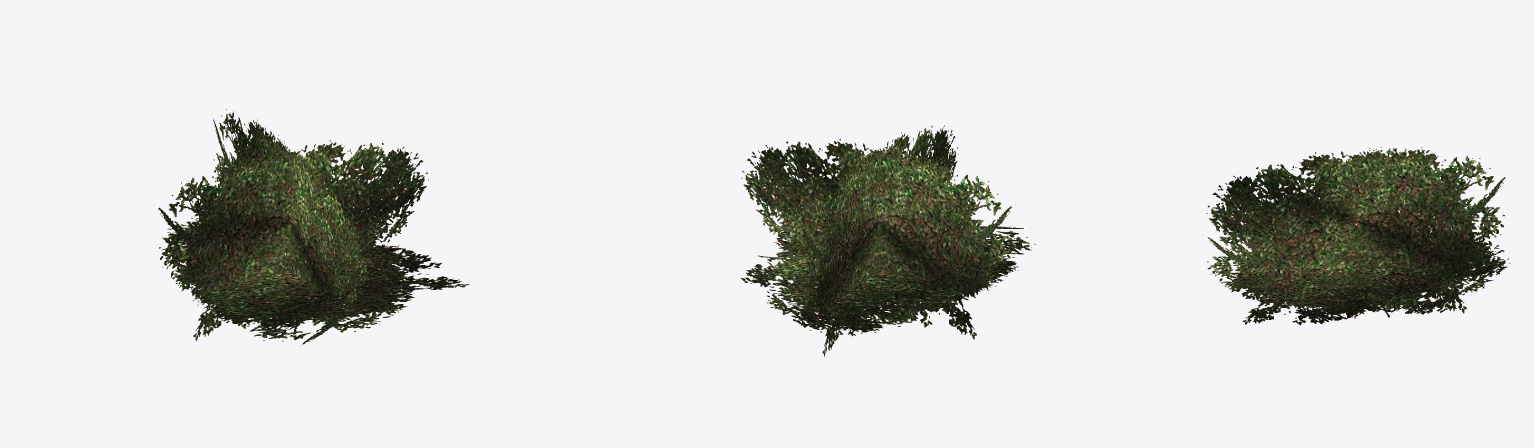
The model's file is shrb_leafbush_med_l1.fbx.
The picture shows the model from 3 angles, left to right: view 1: azimuth 30°, elevation 25°; view 2: azimuth 150°, elevation 25°; view 3: azimuth 270°, elevation 25°; orthographic projection. The views are drawn at different scales.
Parts seen in each view (by area): view 1: mesh_node; view 2: mesh_node; view 3: mesh_node.
Part boxes in pixels (left/top/right/bottom): mesh_node: left=158, top=109, right=469, bottom=346; mesh_node: left=741, top=125, right=1035, bottom=356; mesh_node: left=1203, top=147, right=1510, bottom=325.
Bounding box in the file's own units: 2.94 × 2.11 × 2.21.
